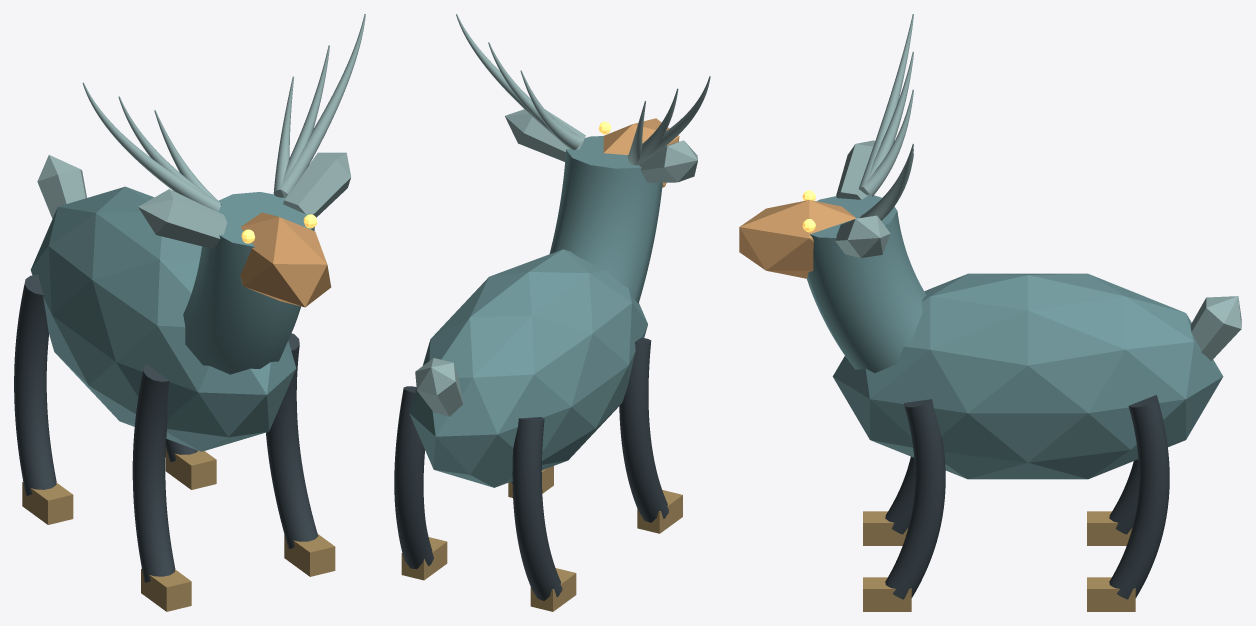
The model's file is prism_stag.glb.
3 views of the same model, side by side, from view 1: azimuth 30°, elevation 25°; view 2: azimuth 150°, elevation 25°; view 3: azimuth 270°, elevation 25° (orthographic). The views are drawn at different scales.
Visible parts, largest first — view 1: prism_stag; view 2: prism_stag; view 3: prism_stag.
Boxes of the visible parts, left/top/right/bottom form: prism_stag: left=14, top=14, right=365, bottom=611; prism_stag: left=394, top=14, right=710, bottom=611; prism_stag: left=739, top=14, right=1241, bottom=611.
Bounding box in the file's own units: 0.5924 × 1.05 × 0.9638.
